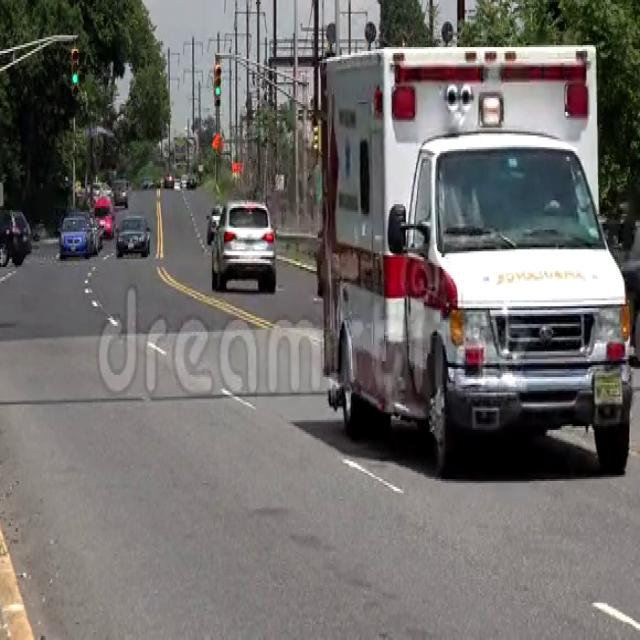ambulance: (318, 45, 636, 475)
